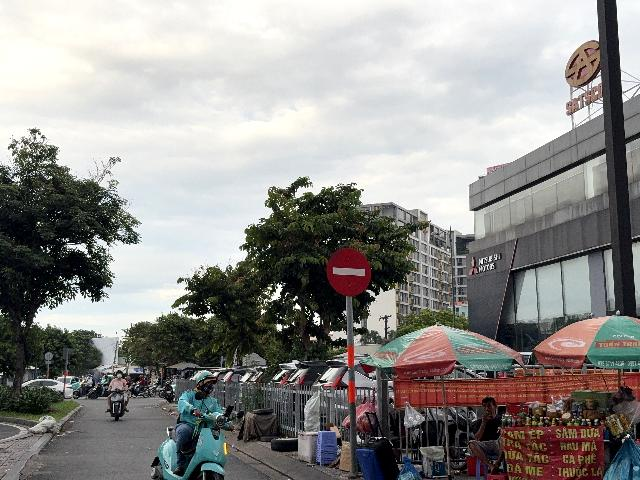cam-di-nguoc-chieu: (327, 249, 371, 296)
